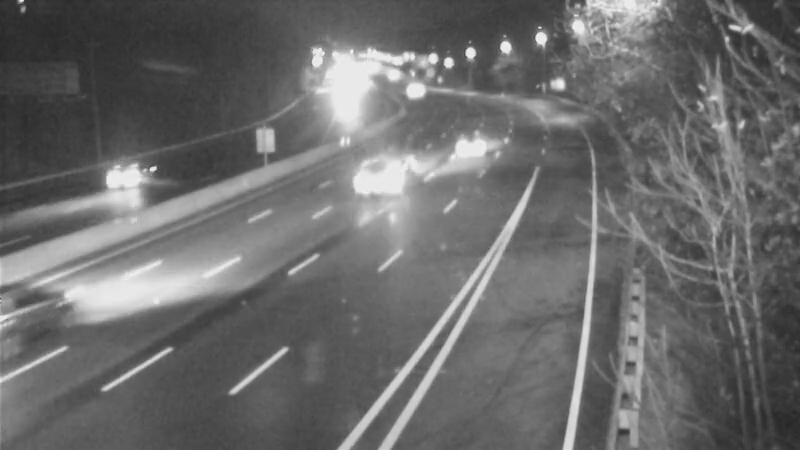vehicle: (1, 266, 95, 376), (349, 136, 429, 216), (93, 135, 173, 215), (390, 61, 440, 111), (450, 113, 500, 163)
